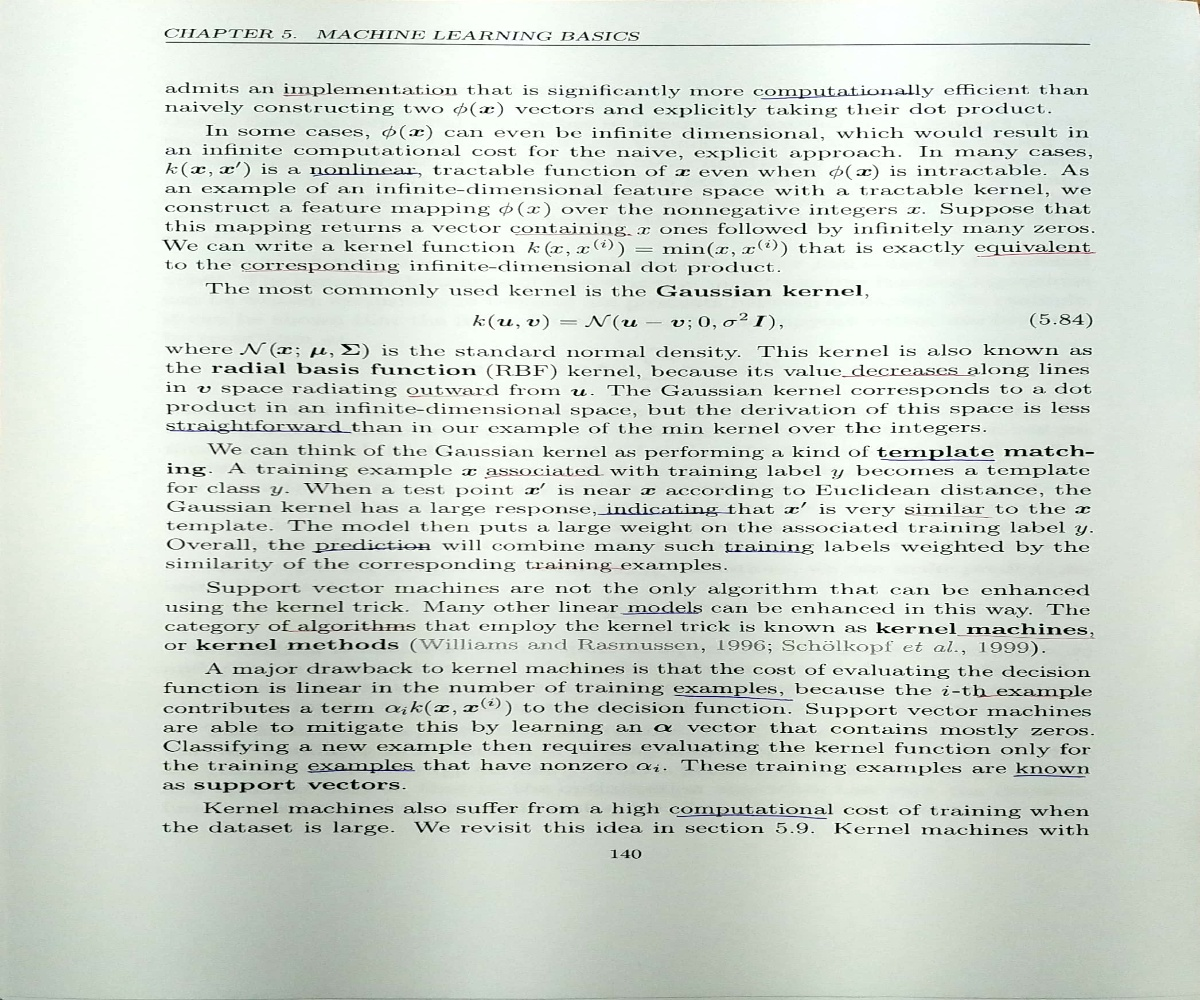underline: (672, 811, 828, 823), (167, 428, 352, 436), (954, 633, 1098, 642), (239, 267, 398, 275), (673, 693, 797, 703), (594, 510, 735, 518), (761, 93, 921, 100), (971, 692, 1095, 701), (511, 229, 632, 237), (880, 455, 999, 463), (313, 546, 432, 554), (1013, 769, 1092, 781), (527, 565, 628, 574), (305, 767, 417, 775), (285, 91, 459, 96), (407, 392, 502, 401), (618, 609, 701, 619), (973, 250, 1097, 256), (721, 549, 818, 556), (282, 627, 416, 632), (841, 373, 974, 378), (312, 171, 420, 177)
